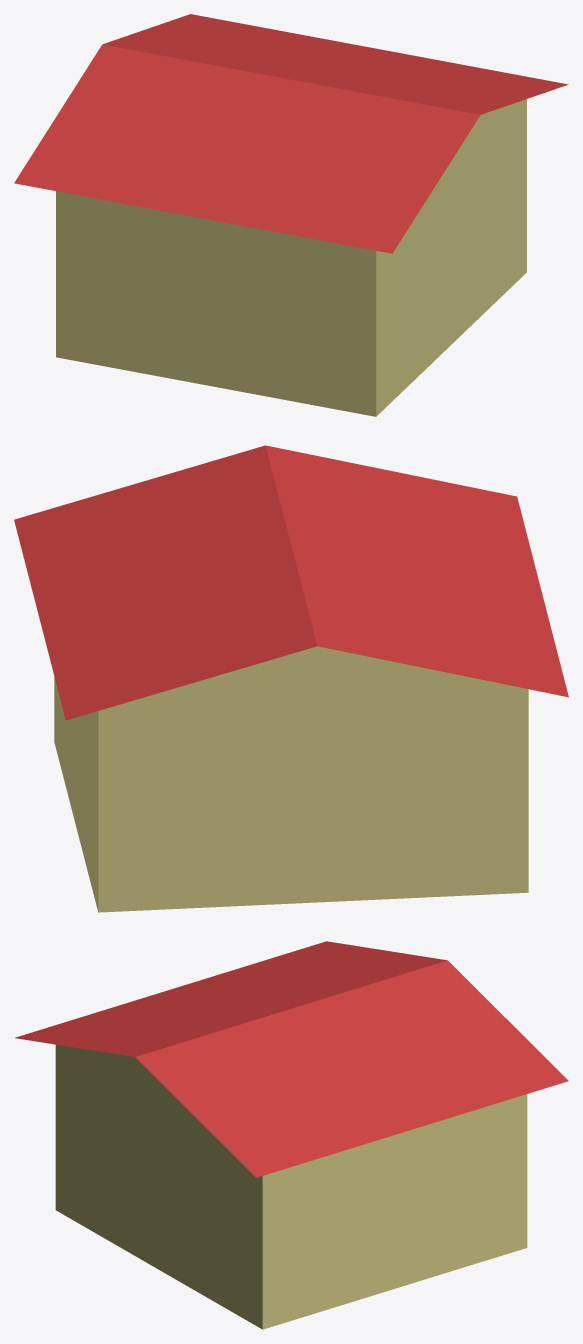
3 views of the same model, one above another, from view 1: azimuth 30°, elevation 25°; view 2: azimuth 150°, elevation 25°; view 3: azimuth 270°, elevation 25° (orthographic). The views are drawn at different scales.
Bounding box in the file's own units: 18.82 × 18.65 × 8.17.
